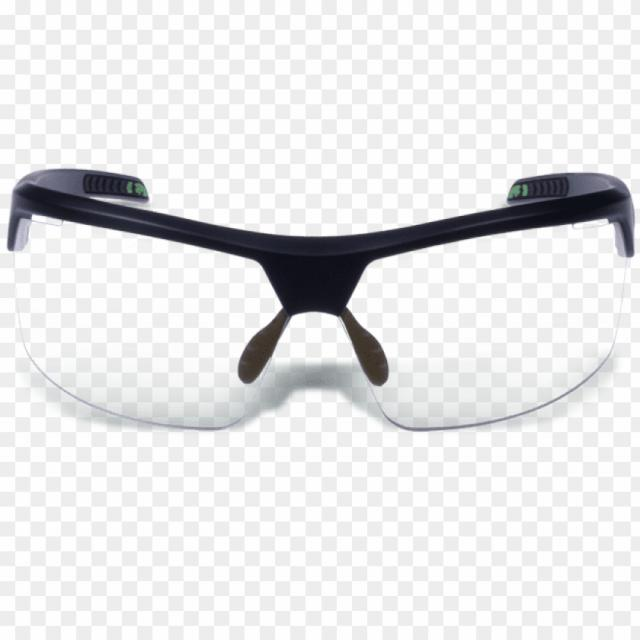Protective Glasses: (0, 142, 640, 445)
